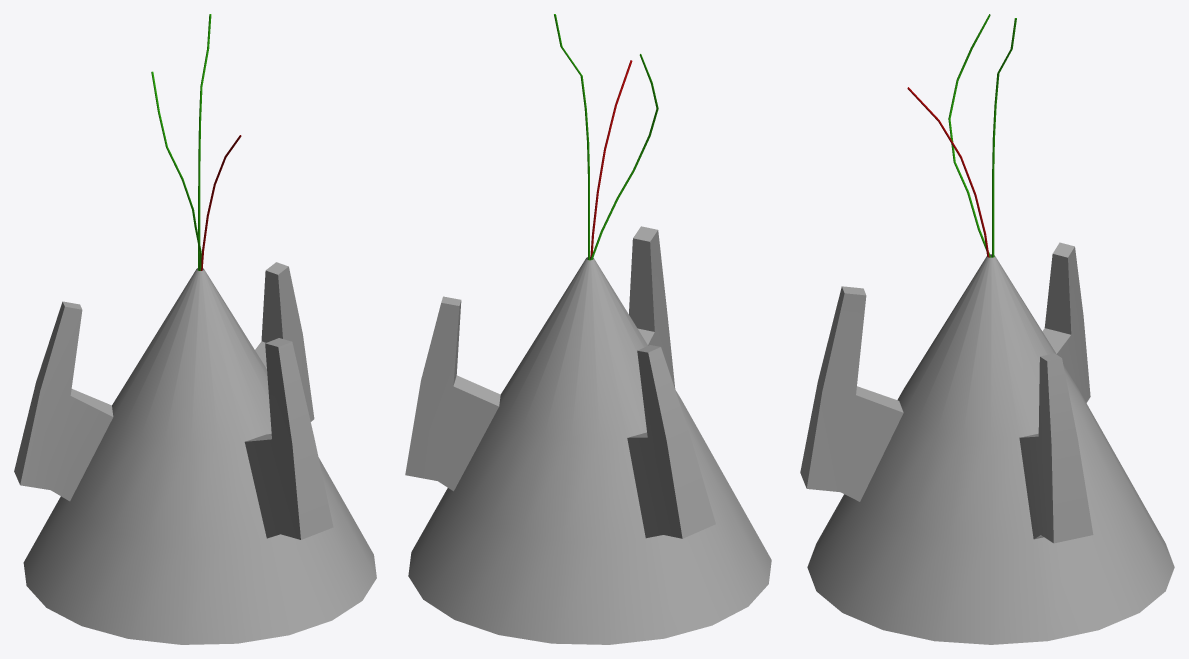
The model's file is coneDebris.fbx.
3 views of the same model, side by side, from view 1: azimuth 30°, elevation 25°; view 2: azimuth 150°, elevation 25°; view 3: azimuth 270°, elevation 25° (orthographic). The views are drawn at different scales.
Visible parts, largest first — view 1: spaceDebrisCone, wire1, wire2; view 2: spaceDebrisCone, wire1, wire2, wire3; view 3: spaceDebrisCone, wire1, wire2.
Boxes of the visible parts, x1,y1,x2,y2 form: spaceDebrisCone: (14,262,376,644); wire1: (198,14,211,270); wire2: (151,71,201,270); spaceDebrisCone: (405,226,771,644); wire1: (554,14,589,260); wire2: (590,54,658,260); wire3: (590,60,632,258); spaceDebrisCone: (800,242,1174,644); wire1: (992,18,1016,257); wire2: (948,14,990,257).
Bounding box in the file's own units: 9.45 × 15.91 × 9.64.
